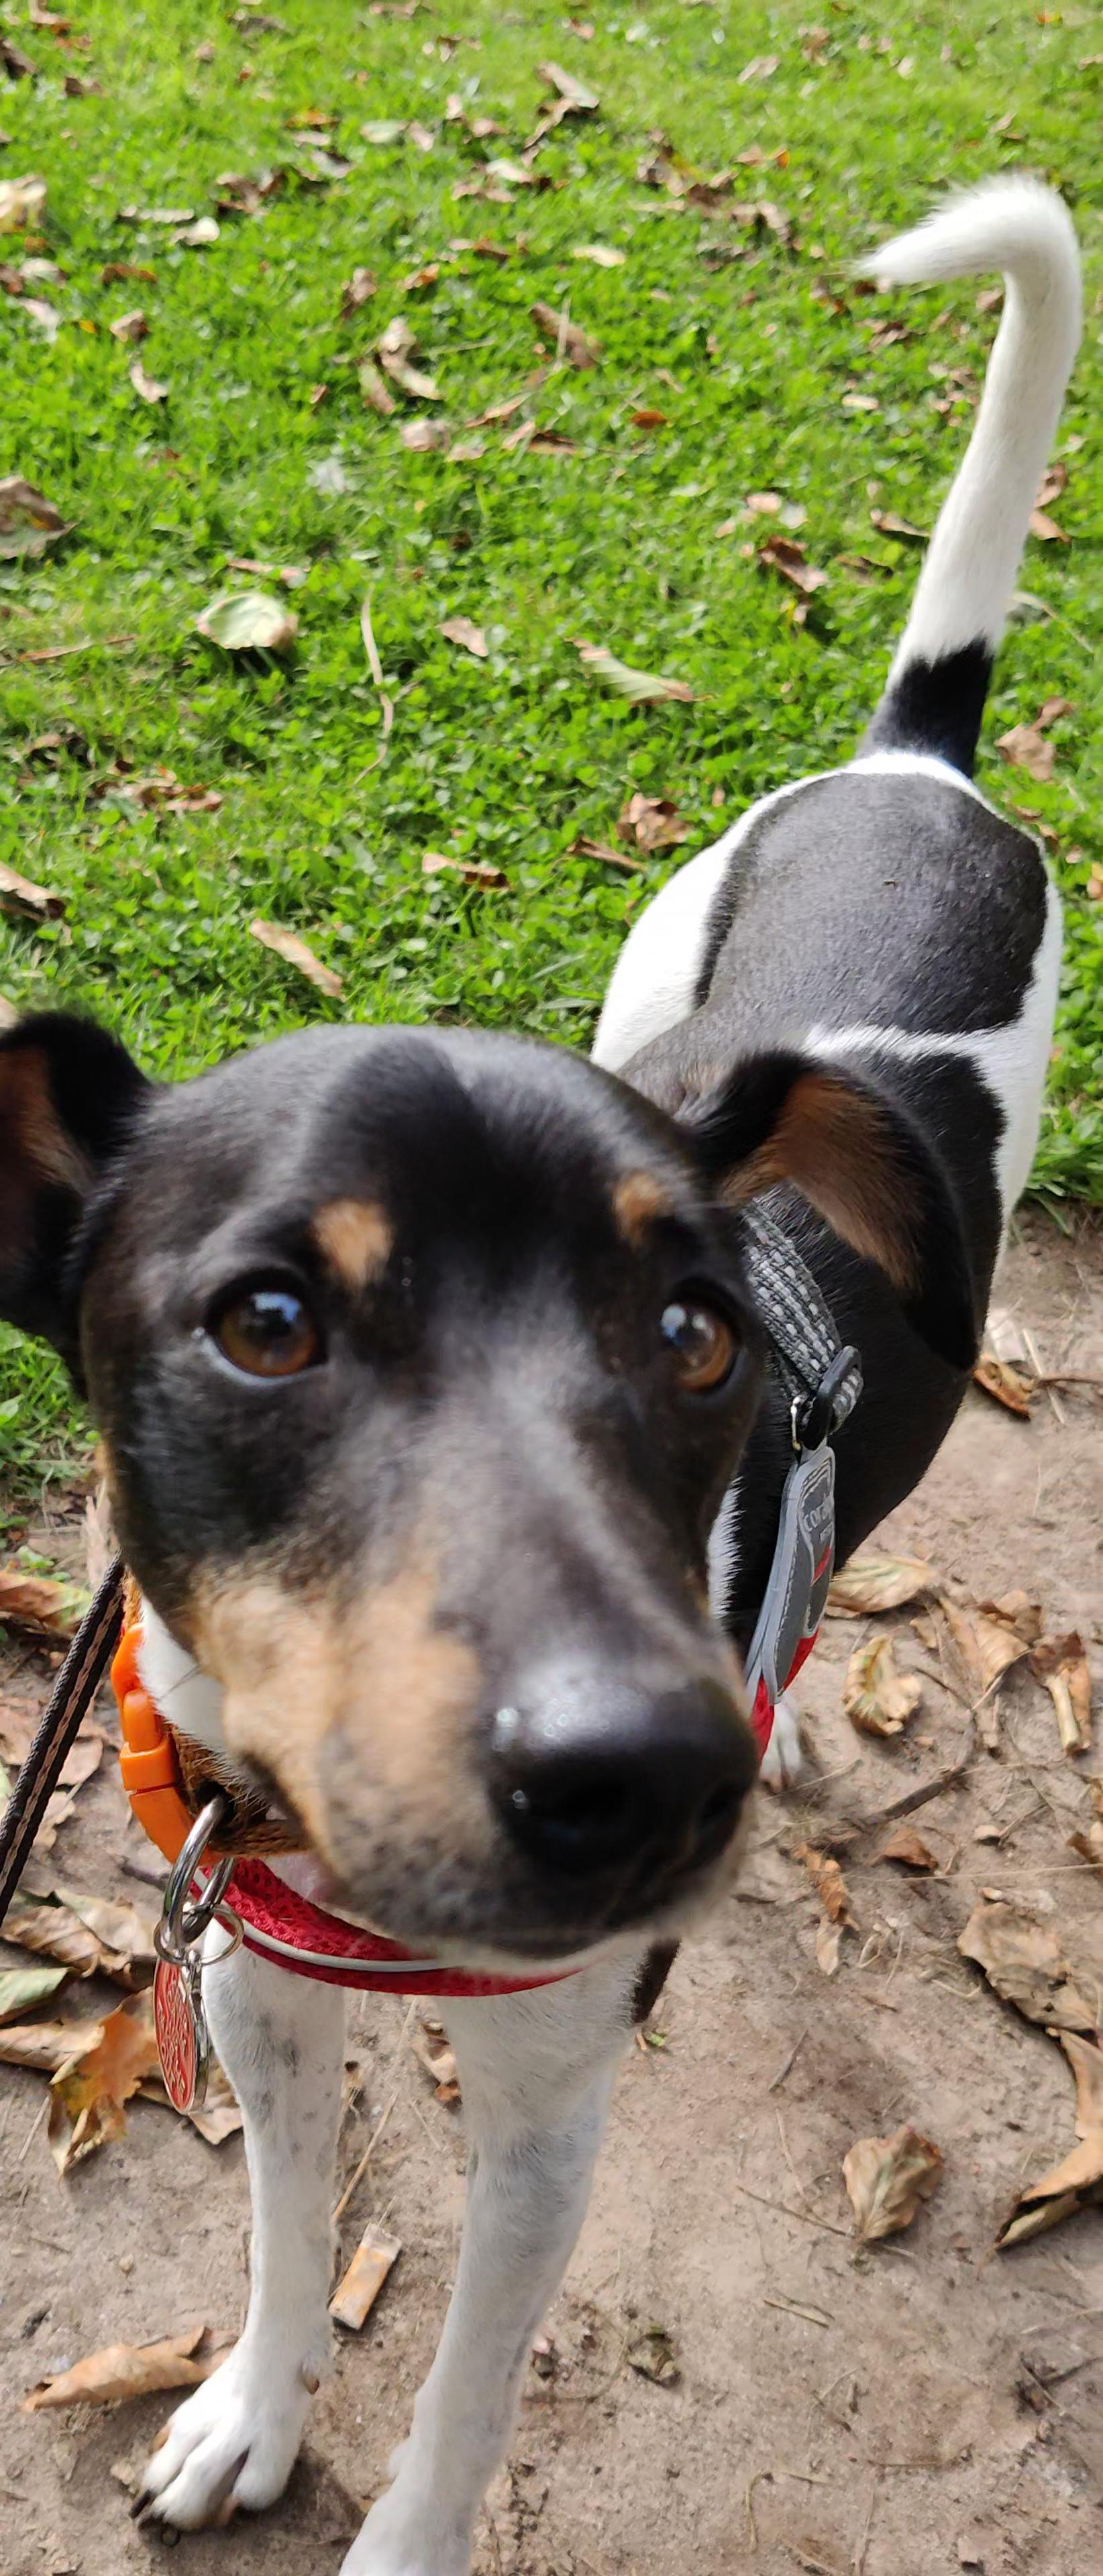Dog: (0, 169, 1082, 2576)
